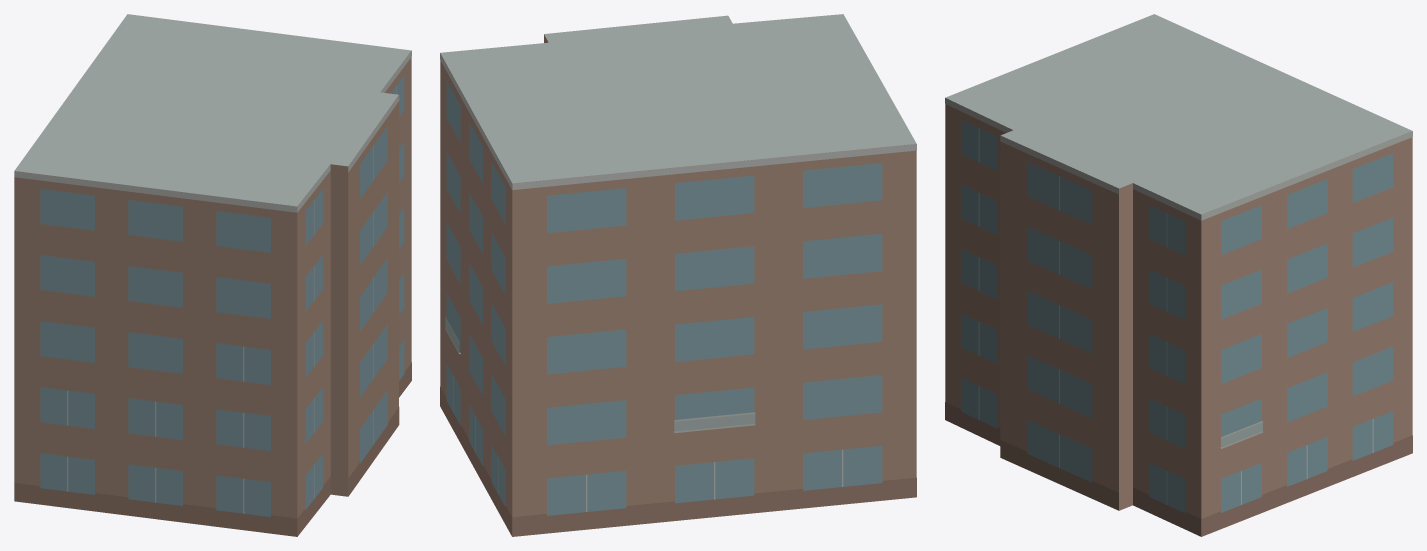
File: survey-upis-32601523.glb
The picture shows the model from 3 angles, left to right: view 1: azimuth 30°, elevation 25°; view 2: azimuth 150°, elevation 25°; view 3: azimuth 270°, elevation 25°; orthographic projection. The views are drawn at different scales.
Visible parts, largest first — view 1: survey-upis-32601523.tmp; view 2: survey-upis-32601523.tmp; view 3: survey-upis-32601523.tmp.
Boxes of the visible parts, x1,y1,x2,y2 form: survey-upis-32601523.tmp: (14,14,411,536); survey-upis-32601523.tmp: (440,14,916,536); survey-upis-32601523.tmp: (945,14,1412,536).
Size of the model in its own units: 17.23 by 12.9 by 16.97.
